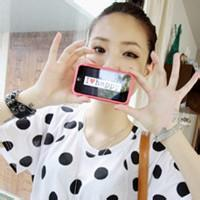face: (82, 13, 148, 107)
